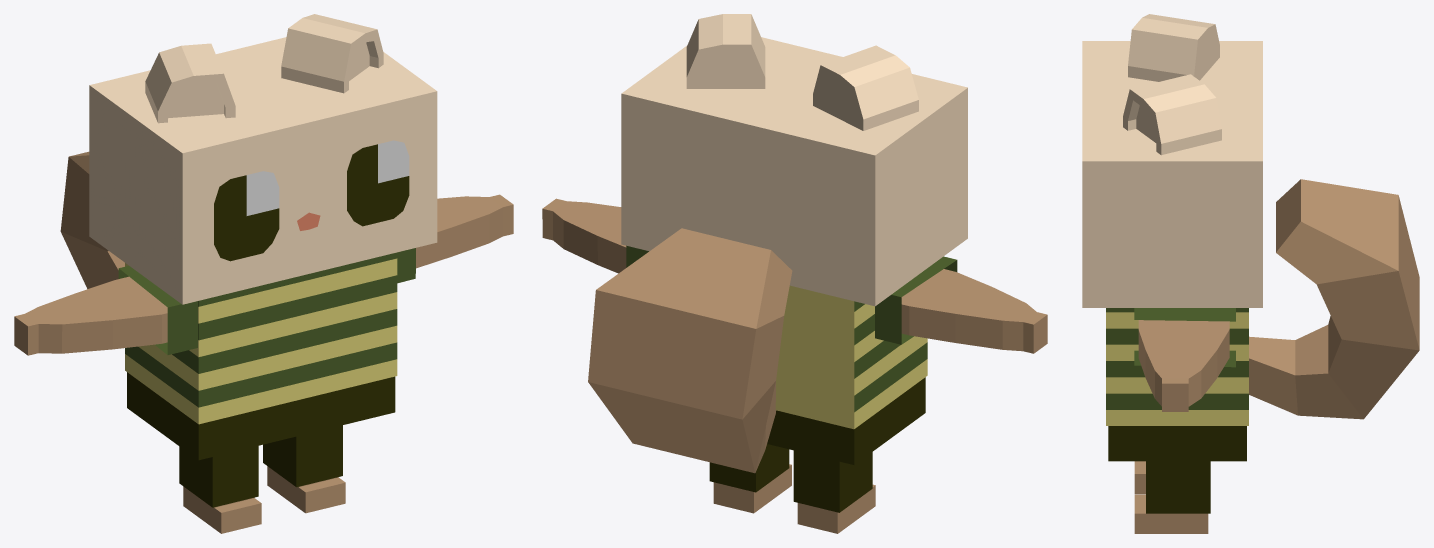
The model's file is npc_basic form_dotori npc2.fbx.
3 views of the same model, side by side, from view 1: azimuth 30°, elevation 25°; view 2: azimuth 150°, elevation 25°; view 3: azimuth 270°, elevation 25° (orthographic). The views are drawn at different scales.
Parts seen in each view (by area): view 1: head.001, clothes.001, Body2.001, eyes, arm.R, mouth, arm.L.001, tail, Leg.R.001, Leg.L.001, clothes.R, Leg.R (+2 smaller); view 2: head.001, tail, clothes.001, arm.R, Body2.001, arm.L.001, Leg.R.001, clothes.R, Leg.L.001, Leg.R, Leg.L; view 3: head.001, tail, clothes.001, arm.L.001, Body2.001, Leg.L.001, Leg.L, clothes.L.
Boxes of the visible parts, x1,y1,x2,y2 form: head.001: (89,14,437,304); clothes.001: (125,252,397,424); Body2.001: (127,372,395,460); eyes: (214,140,409,261); arm.R: (14,276,167,355); mouth: (211,212,406,297); arm.L.001: (416,194,513,268); tail: (60,151,124,288); Leg.R.001: (179,446,258,507); Leg.L.001: (263,425,342,487); clothes.R: (118,266,197,354); Leg.R: (183,486,261,533); head.001: (621,14,967,306); tail: (588,228,792,473); clothes.001: (775,285,927,429); arm.R: (901,269,1047,353); Body2.001: (767,377,925,464); arm.L.001: (542,198,626,273); Leg.R.001: (793,450,872,512); clothes.R: (875,256,957,344); Leg.L.001: (709,444,789,492); Leg.R: (797,484,875,533); Leg.L: (713,464,791,513); head.001: (1082,14,1262,307); tail: (1249,179,1419,419); clothes.001: (1106,308,1248,425); arm.L.001: (1138,320,1229,411); Body2.001: (1108,426,1246,461); Leg.L.001: (1146,461,1210,513); Leg.L: (1134,494,1208,533); clothes.L: (1134,308,1235,367).
Size of the model in its own units: 568 by 511 by 357.
